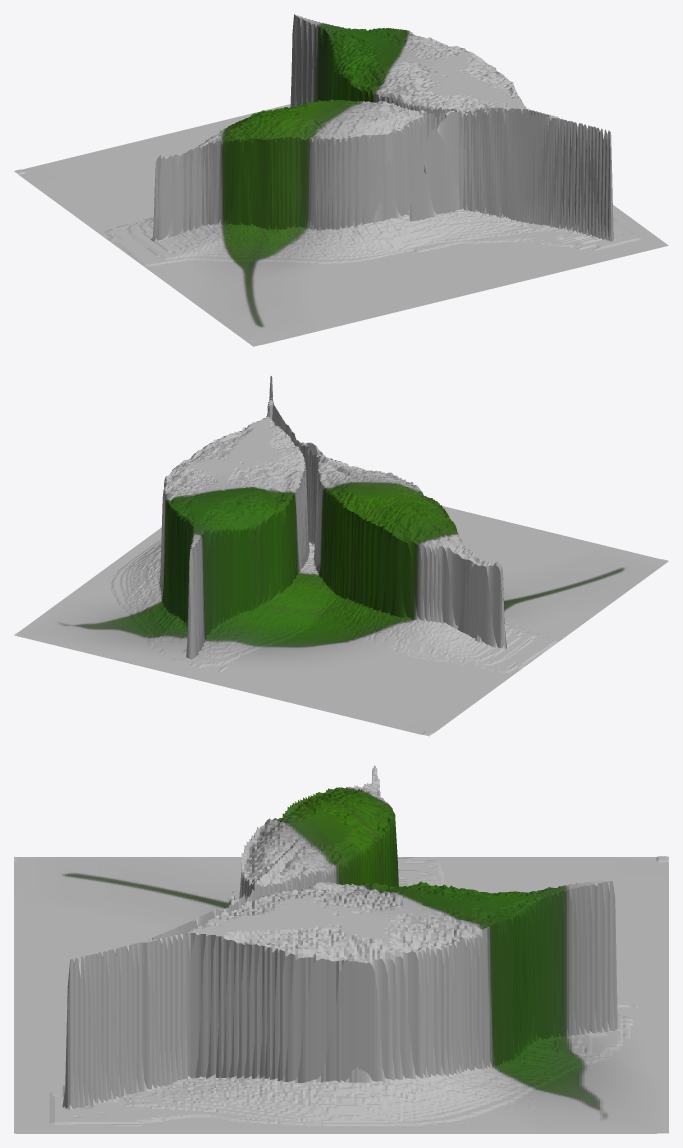
File: Hoja2.fbx
3 renders of one model, top to bottom at view 1: azimuth 30°, elevation 25°; view 2: azimuth 150°, elevation 25°; view 3: azimuth 270°, elevation 25°, orthographic. The views are drawn at different scales.
Parts seen in each view (by area): view 1: Plane.003; view 2: Plane.003; view 3: Plane.003.
Part boxes in pixels (left/top/right/bottom): Plane.003: left=14, top=14, right=668, bottom=346; Plane.003: left=14, top=376, right=668, bottom=736; Plane.003: left=14, top=765, right=668, bottom=1133.
Size of the model in its own units: 15.9 by 3.99 by 15.9.
